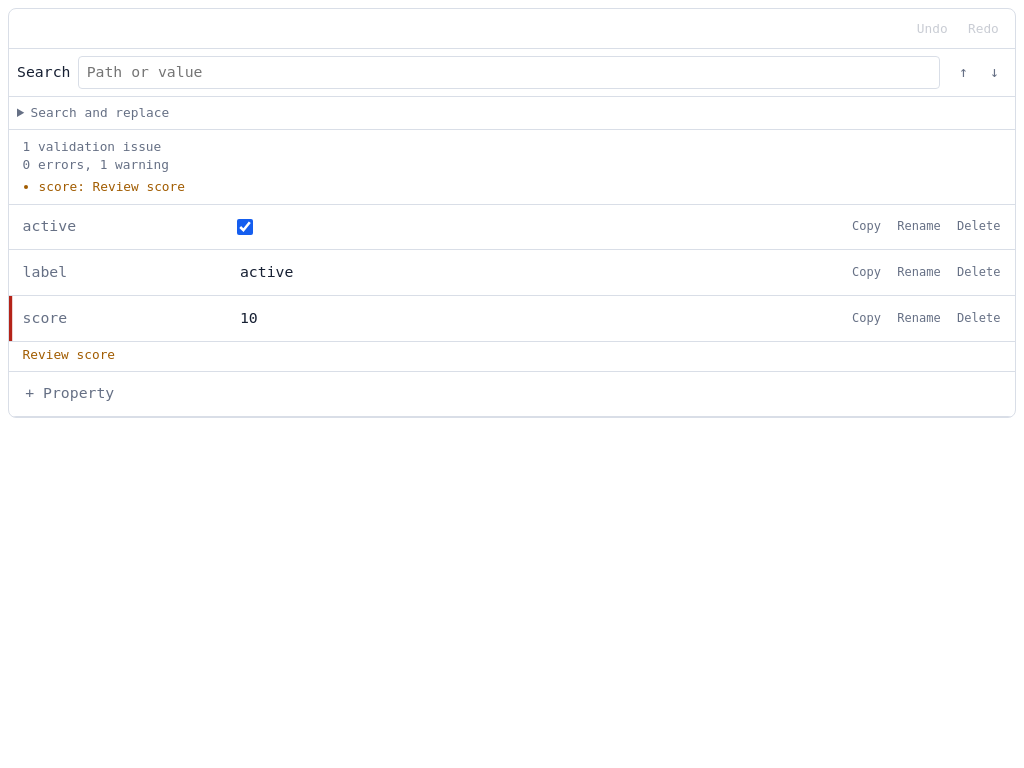
Test: ObjectEditor › filters search by scope, type, and validation severity
Click the heading "Search and replace" at (100, 112), box [30,105,169,120]
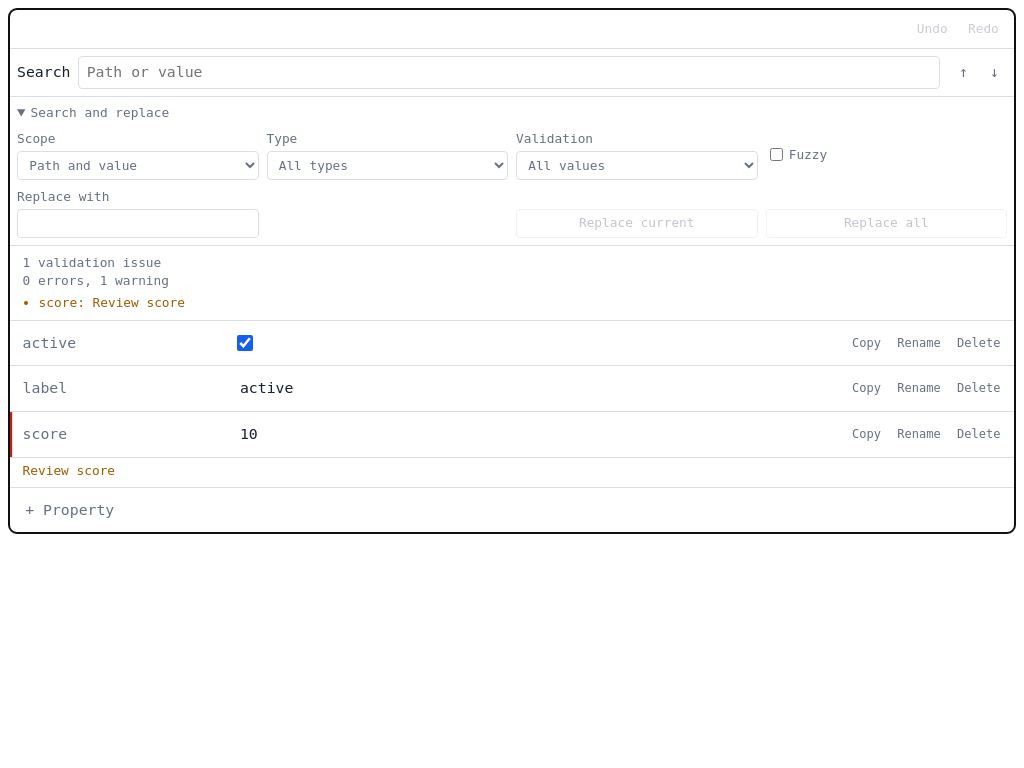
Type "10" into the search field named "Search object" at (509, 72), box [78,56,940,89]
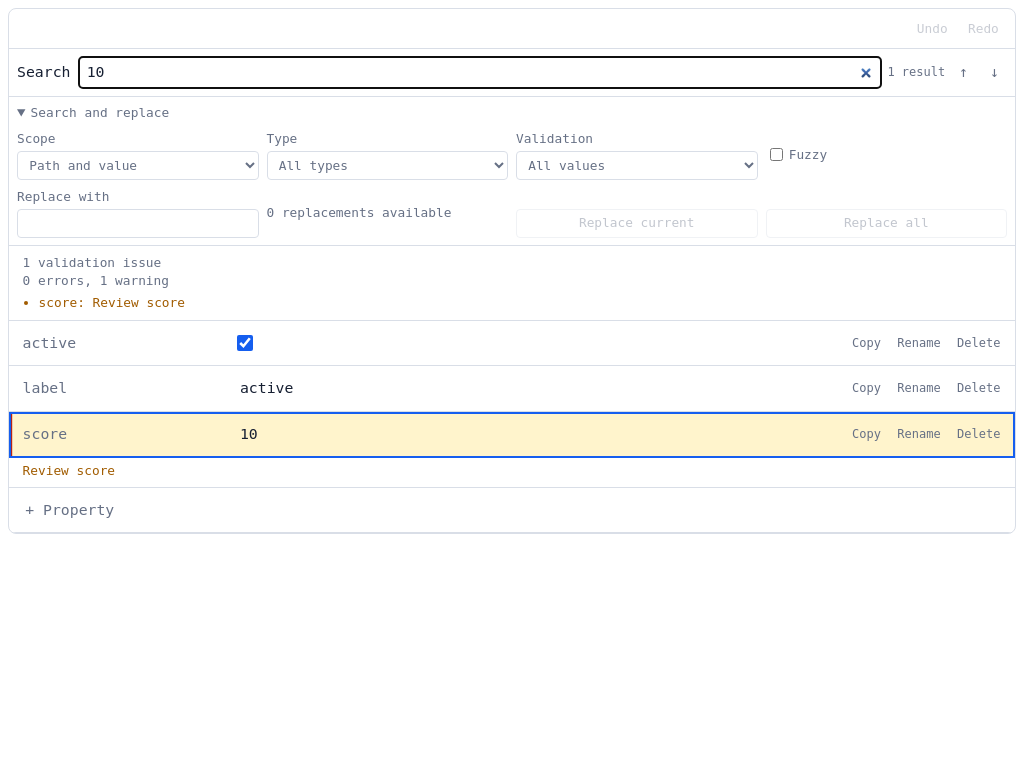
Select "Number" in the dropdown named "Search type" at (387, 165), box [266,151,508,180]
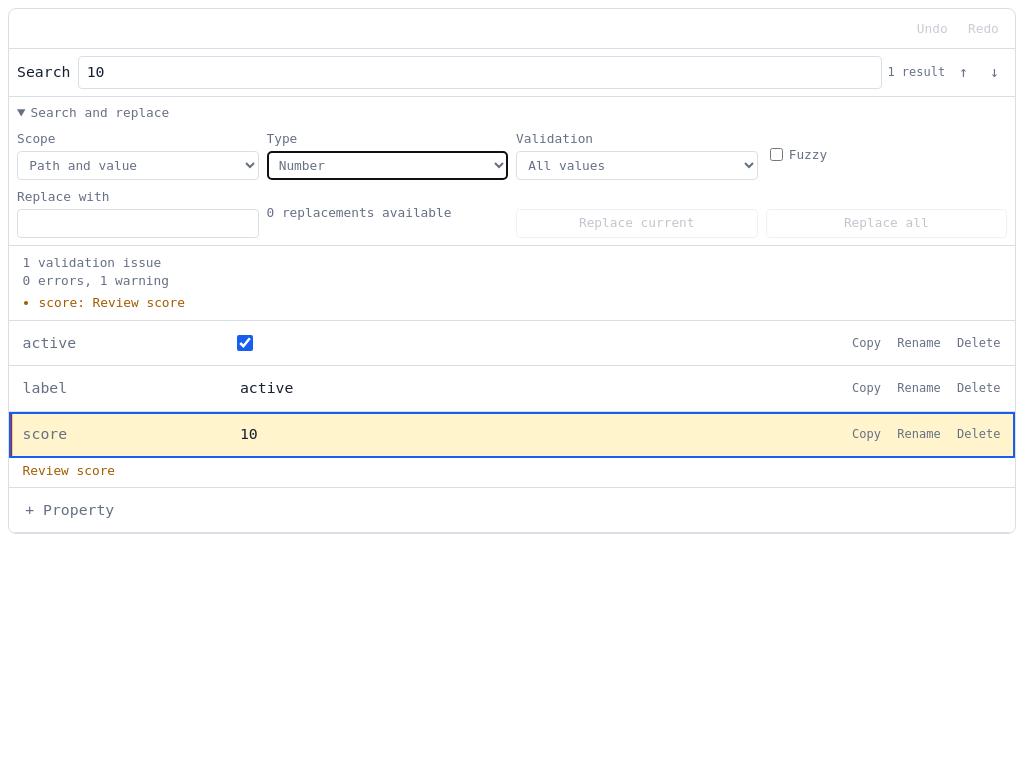
Select "Warnings only" in the dropdown named "Search validation" at (637, 165), box [516,151,758,180]
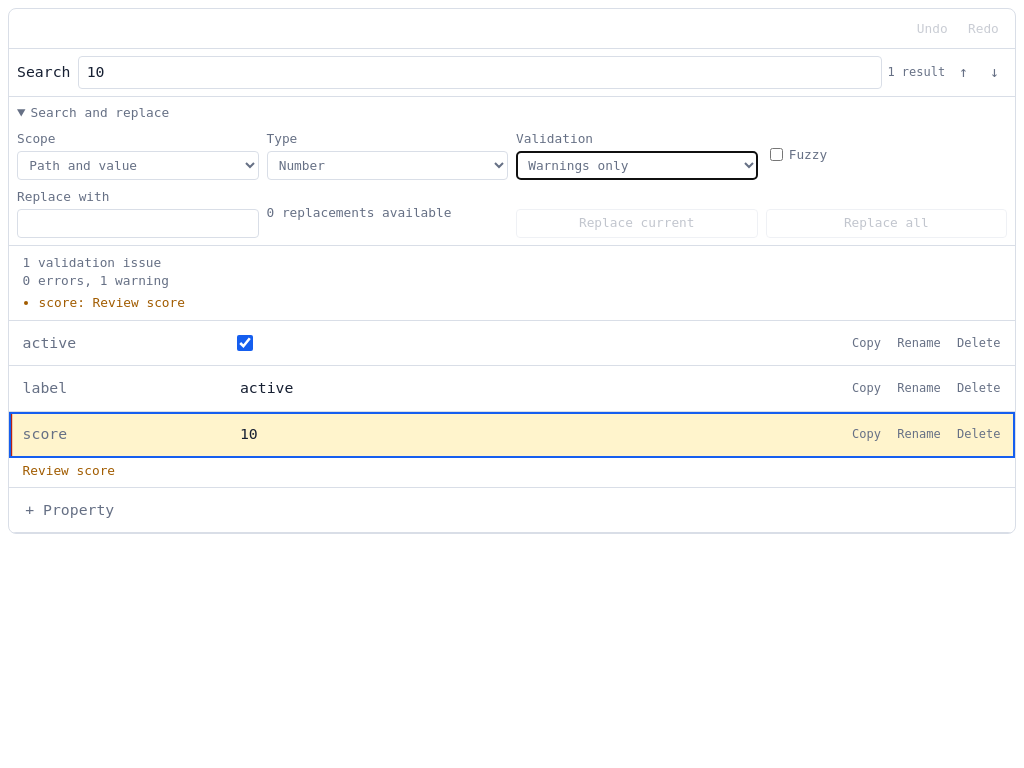
Expected: the text "1 result" is shown, [887,64,945,81]
Select "Path only" in the dropdown named "Search scope" at (138, 165), box [17,151,258,180]
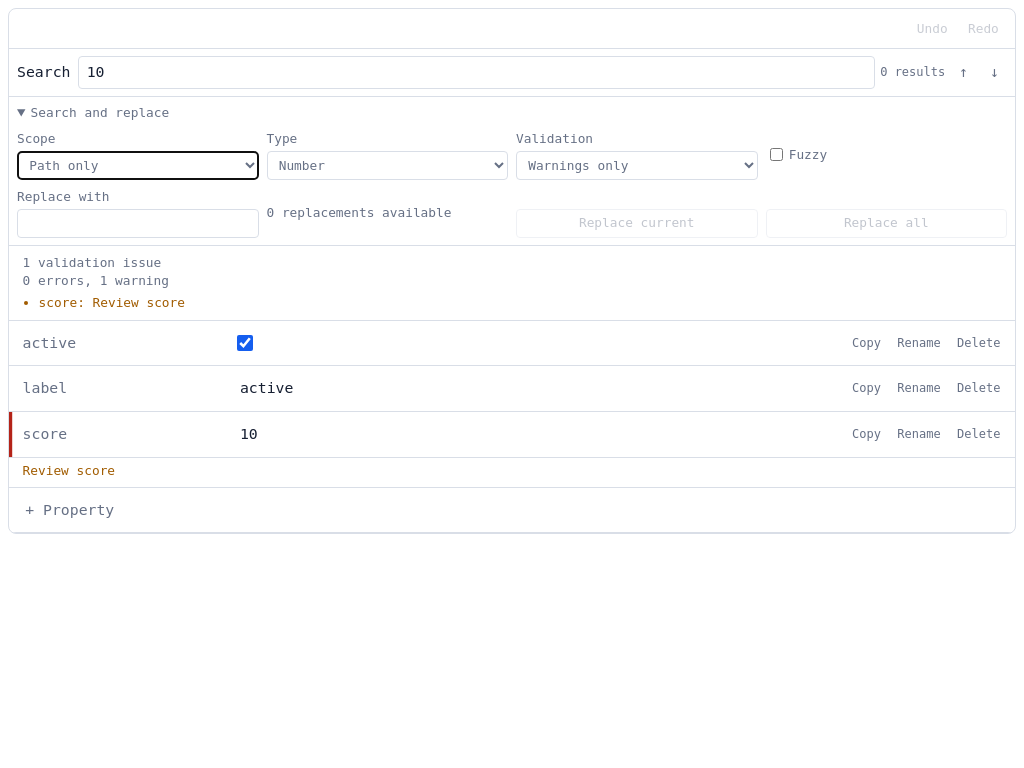
Expected: the text "0 results" is shown, [880,64,945,81]
